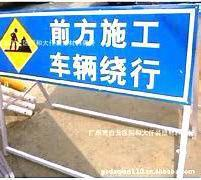sign: (1, 5, 197, 104)
